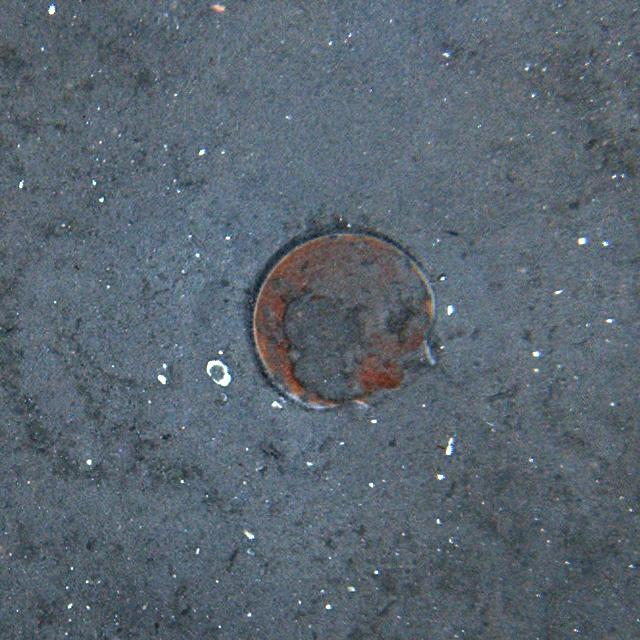scallop: (251, 229, 435, 410)
